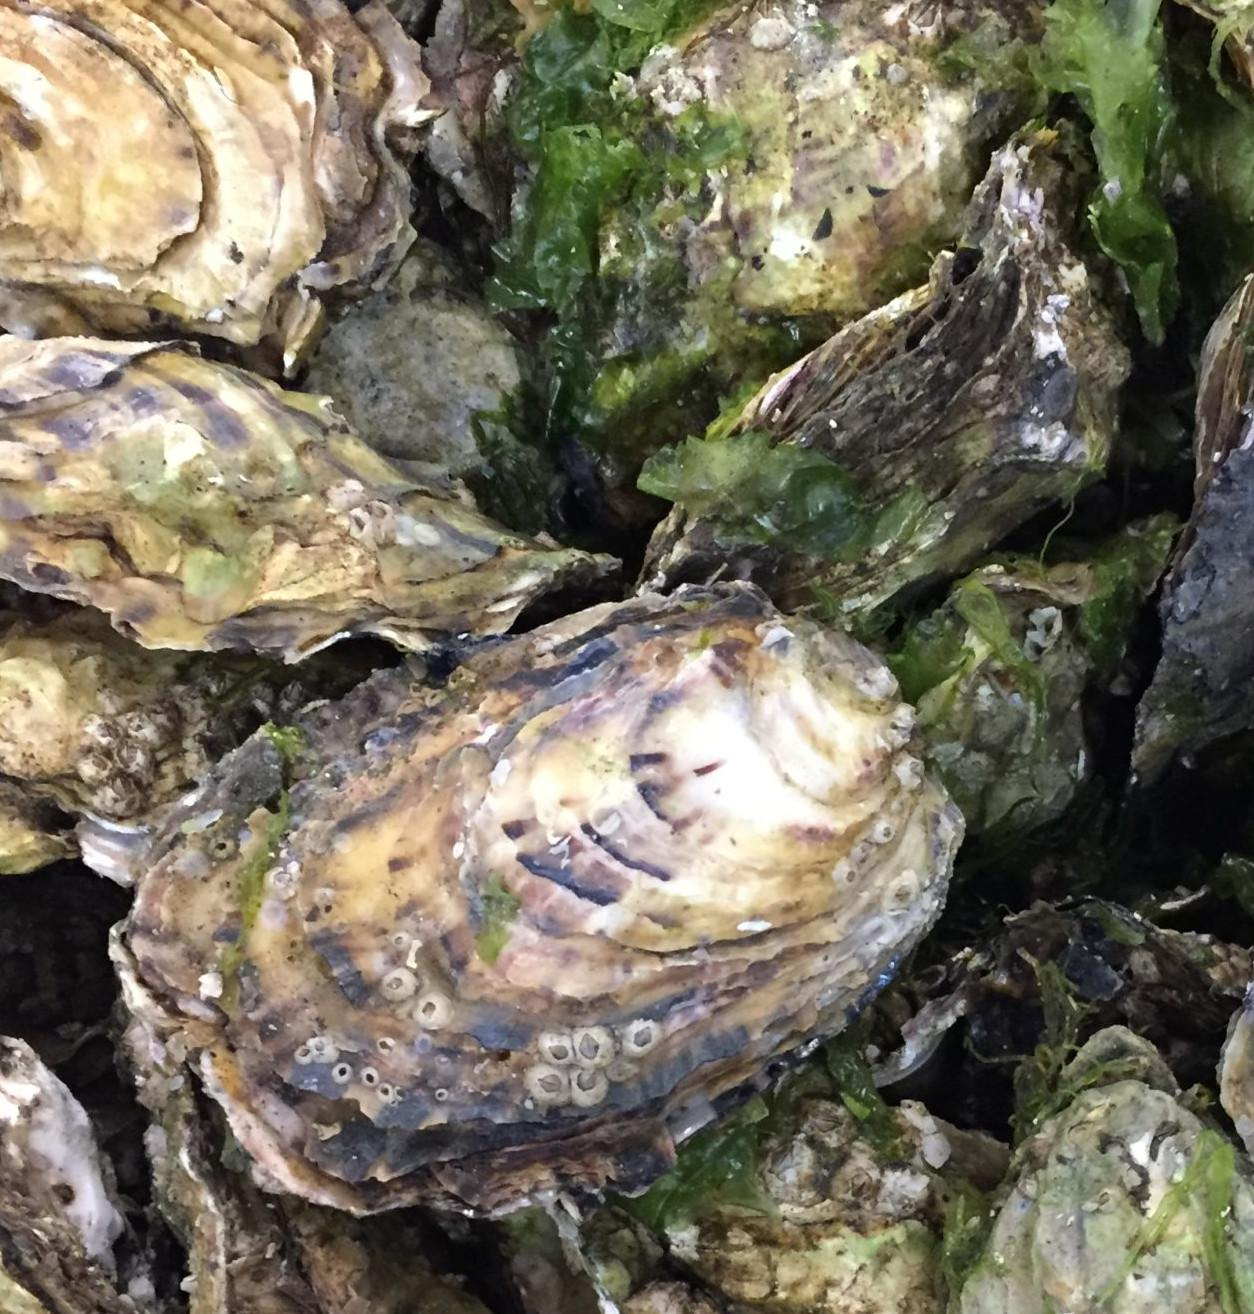Oyster- Indeterminate: (107, 577, 960, 1213), (0, 0, 427, 340), (954, 1030, 1254, 1314), (394, 0, 733, 214), (1124, 278, 1254, 787), (1214, 983, 1254, 1177)
Oyster-Closed: (507, 0, 1063, 530), (644, 116, 1128, 646), (0, 333, 625, 662), (0, 583, 423, 880), (109, 1007, 492, 1314), (894, 514, 1177, 902), (621, 1103, 1016, 1314), (320, 243, 569, 536), (967, 902, 1252, 1146), (0, 1037, 141, 1314)
